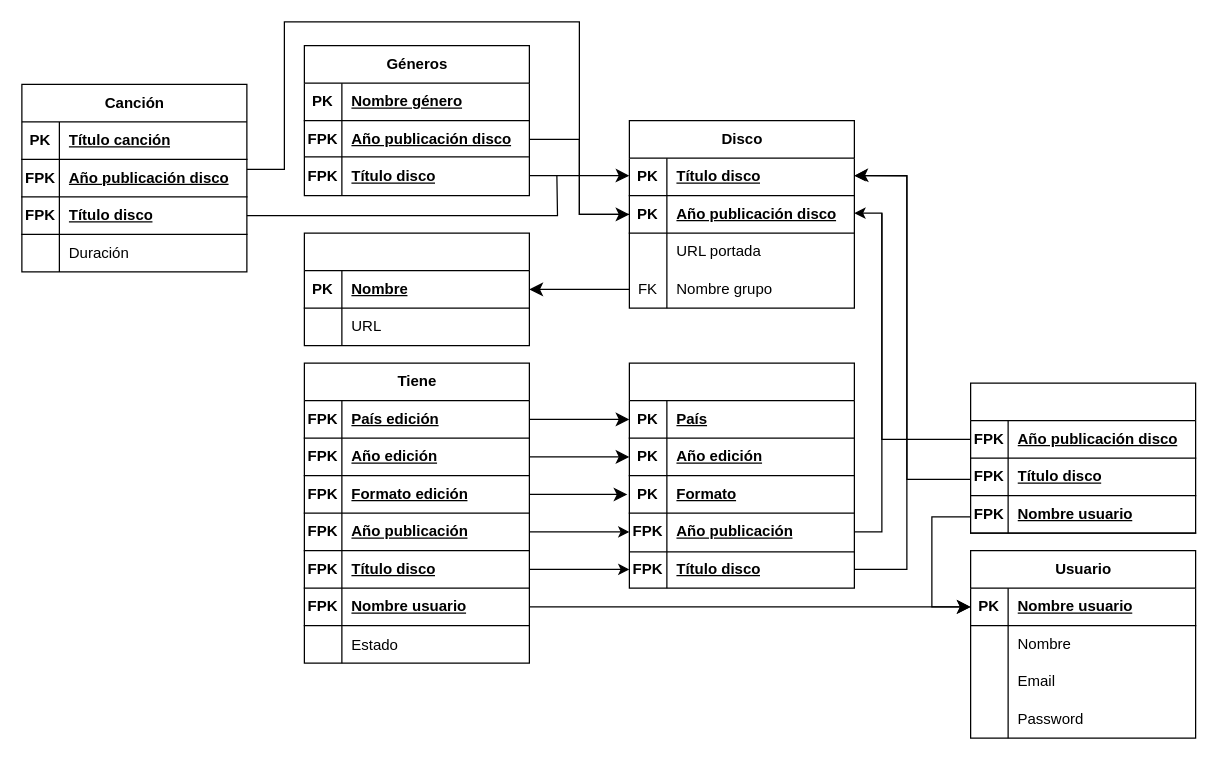
The diagram is 1218 pixels wide and 760 high, and some of its shapes have lost their labels. Here are the shapes that lost their labels. From the top down, the box of each, then its label:
(303, 232, 529, 346): Grupo
(628, 362, 854, 588): Ediciones
(969, 382, 1196, 533): Desea
